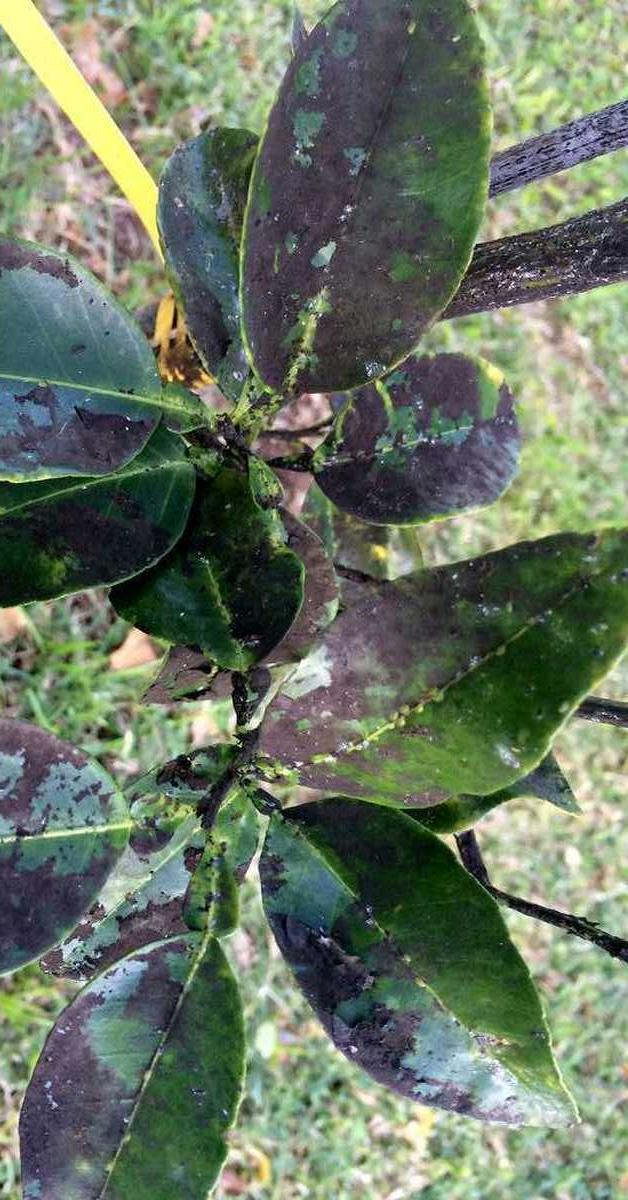soot dew: (252, 530, 616, 803), (240, 0, 491, 390), (266, 799, 501, 1121), (315, 353, 520, 525), (157, 127, 258, 401), (18, 991, 140, 1199), (12, 839, 132, 966), (4, 377, 157, 471), (23, 499, 168, 590), (260, 510, 338, 666), (0, 716, 95, 833), (132, 937, 189, 1028), (8, 241, 87, 294)
